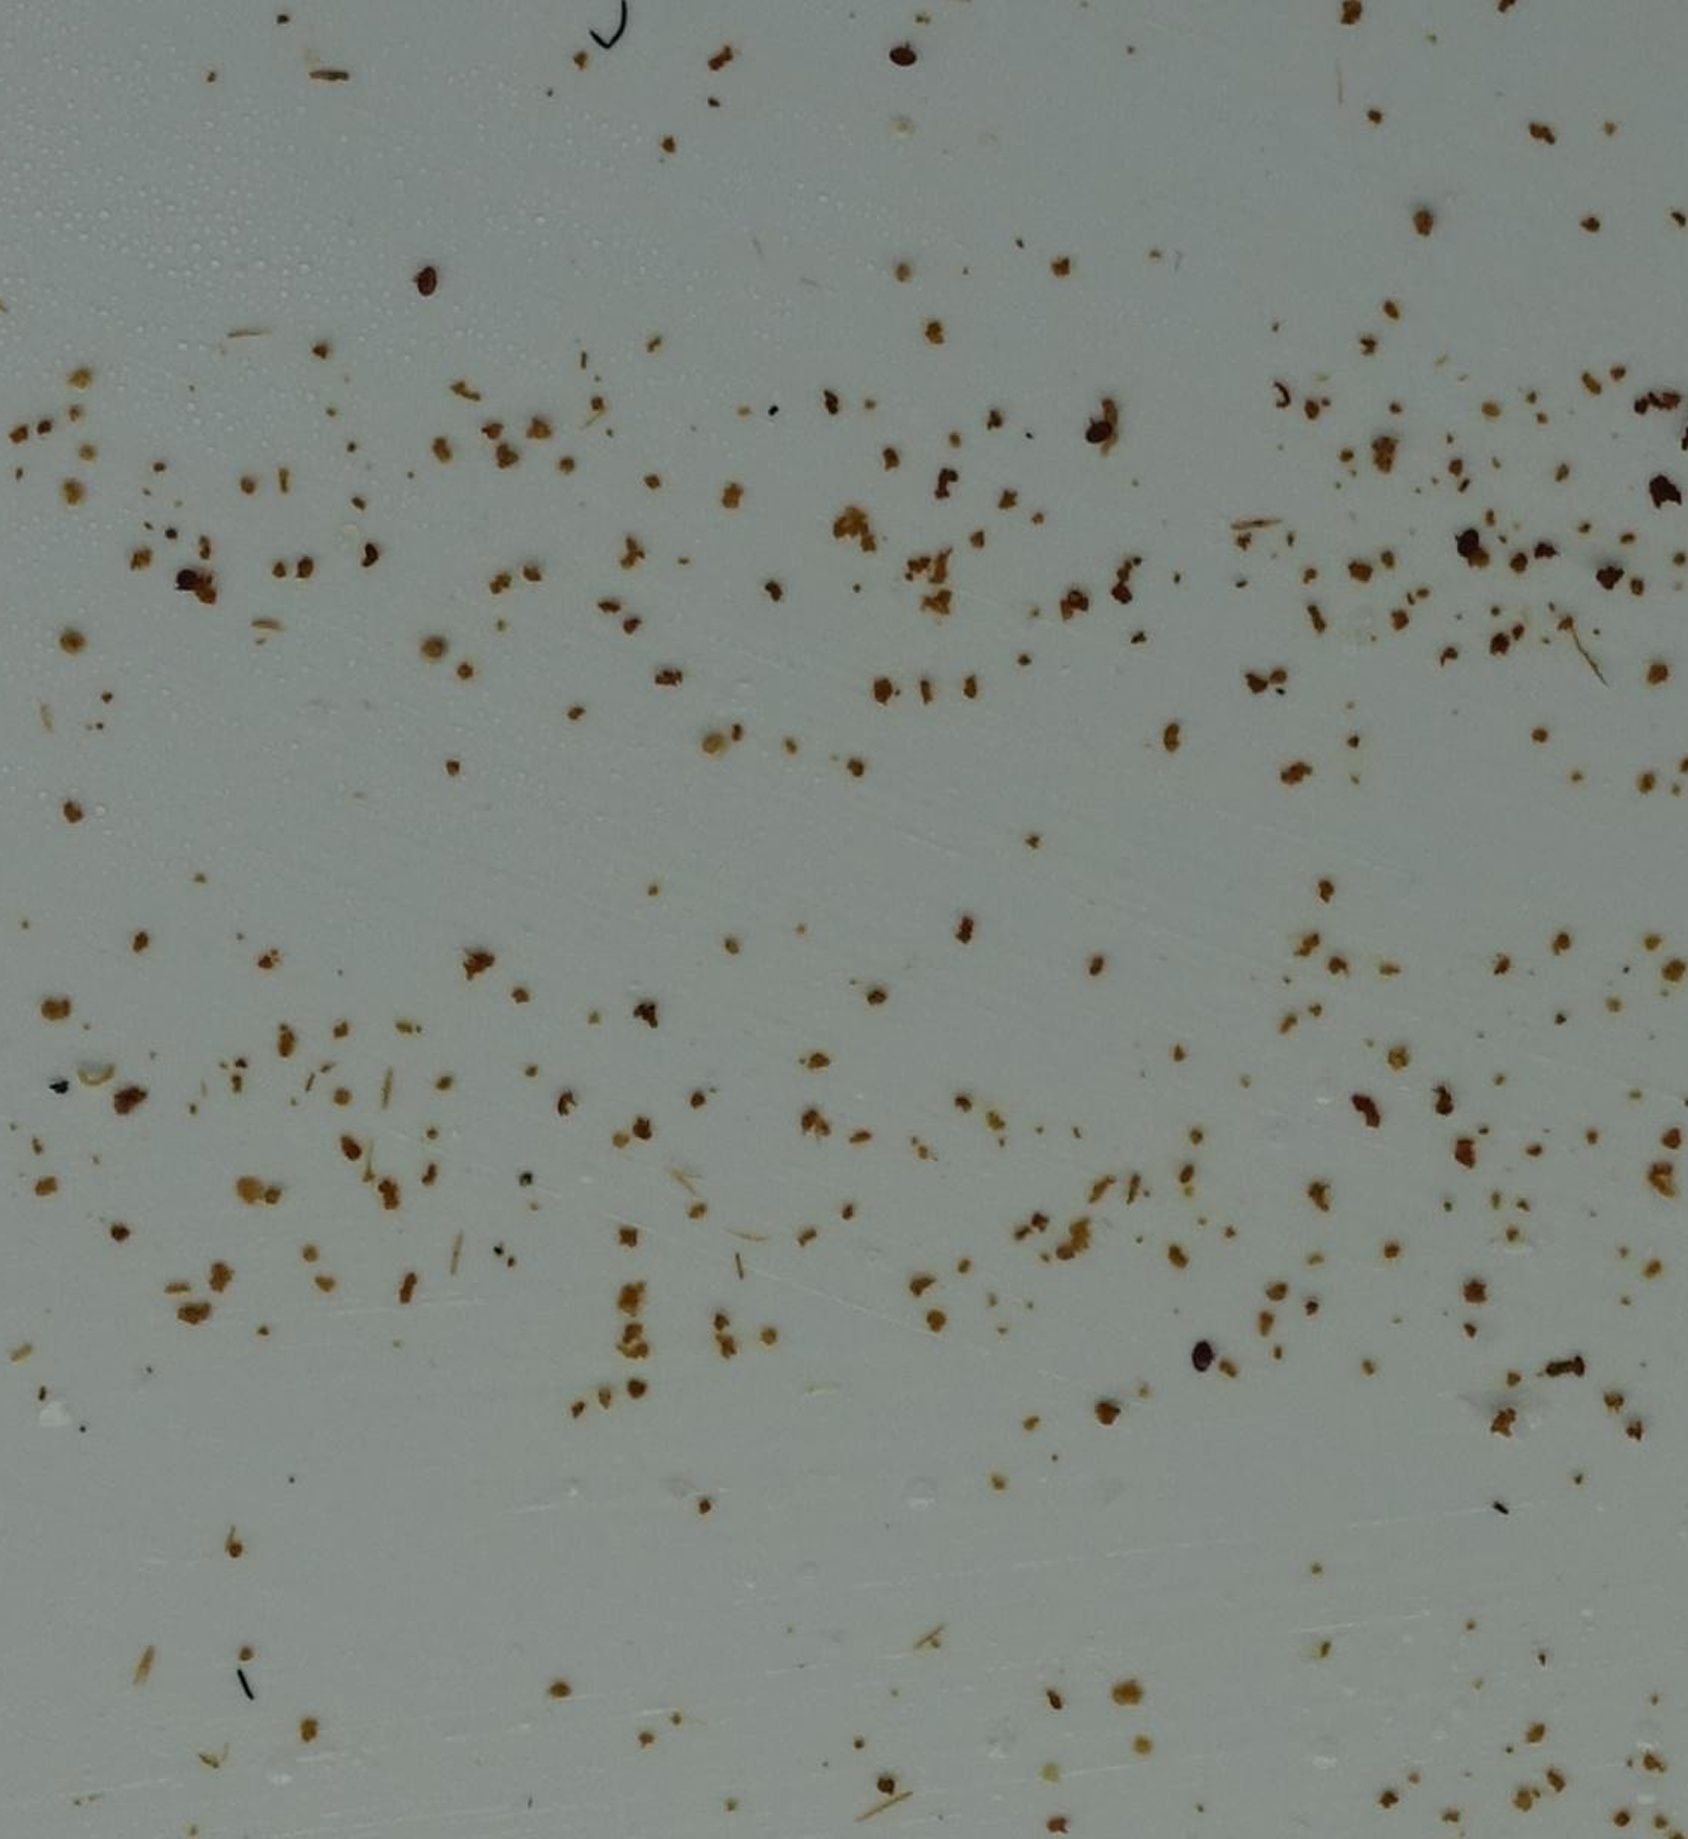Varroa: (167, 557, 210, 602), (1457, 530, 1489, 562), (1188, 1344, 1219, 1374), (408, 263, 437, 295), (1083, 421, 1111, 452), (889, 42, 918, 70)
